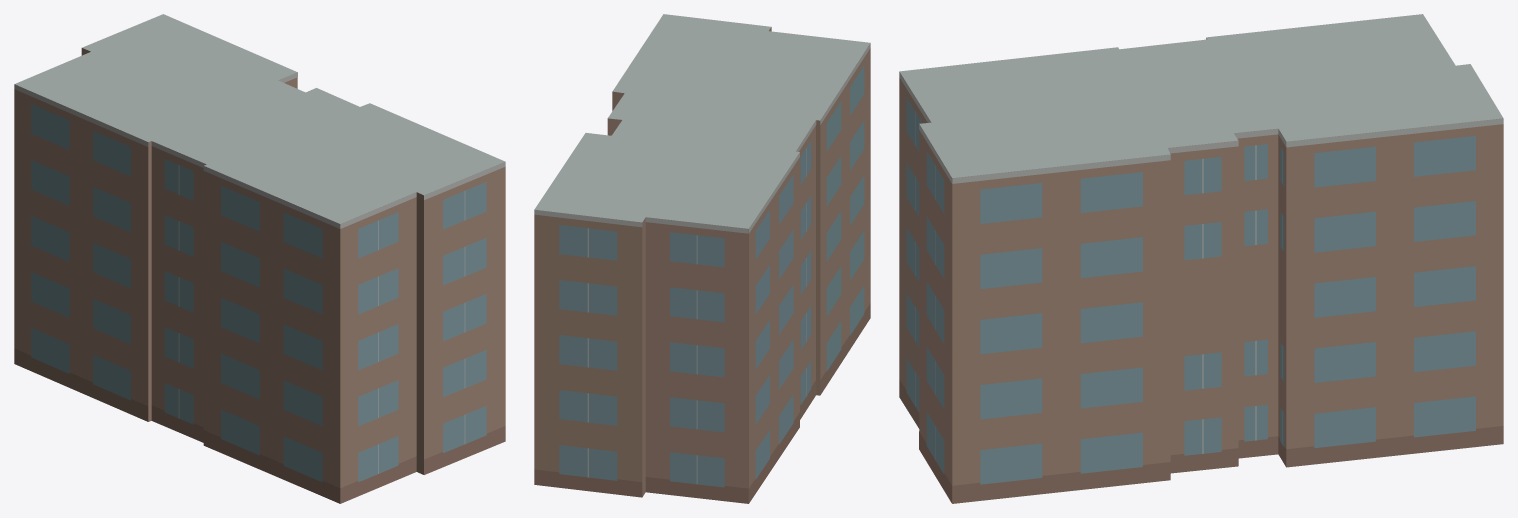
The model's file is survey-upis-32858722.glb.
The picture shows the model from 3 angles, left to right: view 1: azimuth 30°, elevation 25°; view 2: azimuth 150°, elevation 25°; view 3: azimuth 270°, elevation 25°; orthographic projection. The views are drawn at different scales.
Visible parts, largest first — view 1: survey-upis-32858722.tmp; view 2: survey-upis-32858722.tmp; view 3: survey-upis-32858722.tmp.
Part boxes in pixels (x1=…): survey-upis-32858722.tmp: x1=14, y1=14, x2=505, y2=503; survey-upis-32858722.tmp: x1=534, y1=14, x2=870, y2=503; survey-upis-32858722.tmp: x1=899, y1=14, x2=1503, y2=503.
Bounding box in the file's own units: 14.92 × 13.79 × 23.19.
